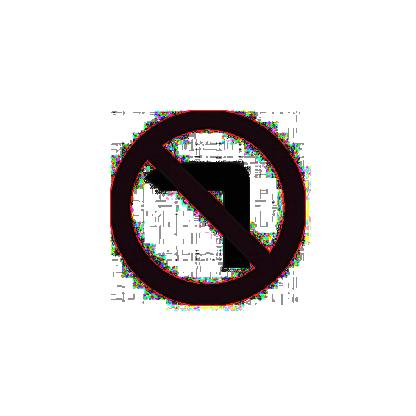No left turn: (108, 106, 309, 308)
